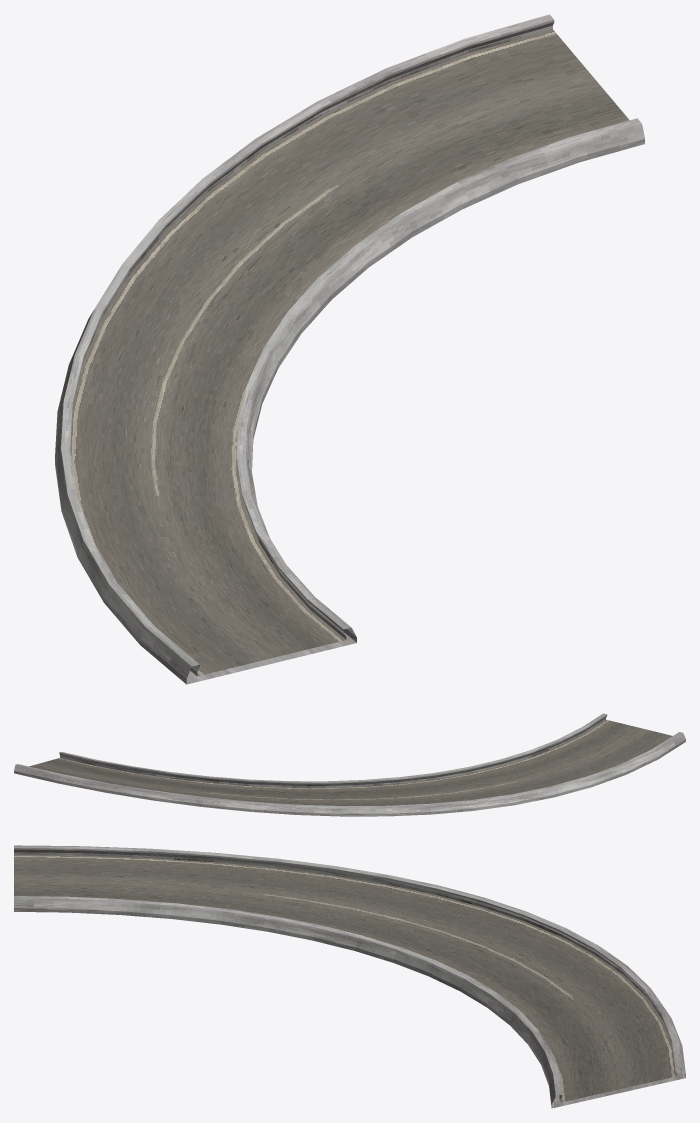
File: turn-right5x5.glb
The picture shows the model from 3 angles, top to bottom: view 1: azimuth 30°, elevation 25°; view 2: azimuth 150°, elevation 25°; view 3: azimuth 270°, elevation 25°; orthographic projection. The views are drawn at different scales.
Visible parts, largest first — view 1: road-Turn-Flat-HalfBankedRight-Up1-Right-Size5; view 2: road-Turn-Flat-HalfBankedRight-Up1-Right-Size5; view 3: road-Turn-Flat-HalfBankedRight-Up1-Right-Size5.
Part boxes in pixels (x1,y1,x2,y2): road-Turn-Flat-HalfBankedRight-Up1-Right-Size5: (55,14,644,684); road-Turn-Flat-HalfBankedRight-Up1-Right-Size5: (14,713,685,816); road-Turn-Flat-HalfBankedRight-Up1-Right-Size5: (14,845,685,1108).
Size of the model in its own units: 5 by 0.5859 by 5.
Materials: 2 (2 with a texture image).
